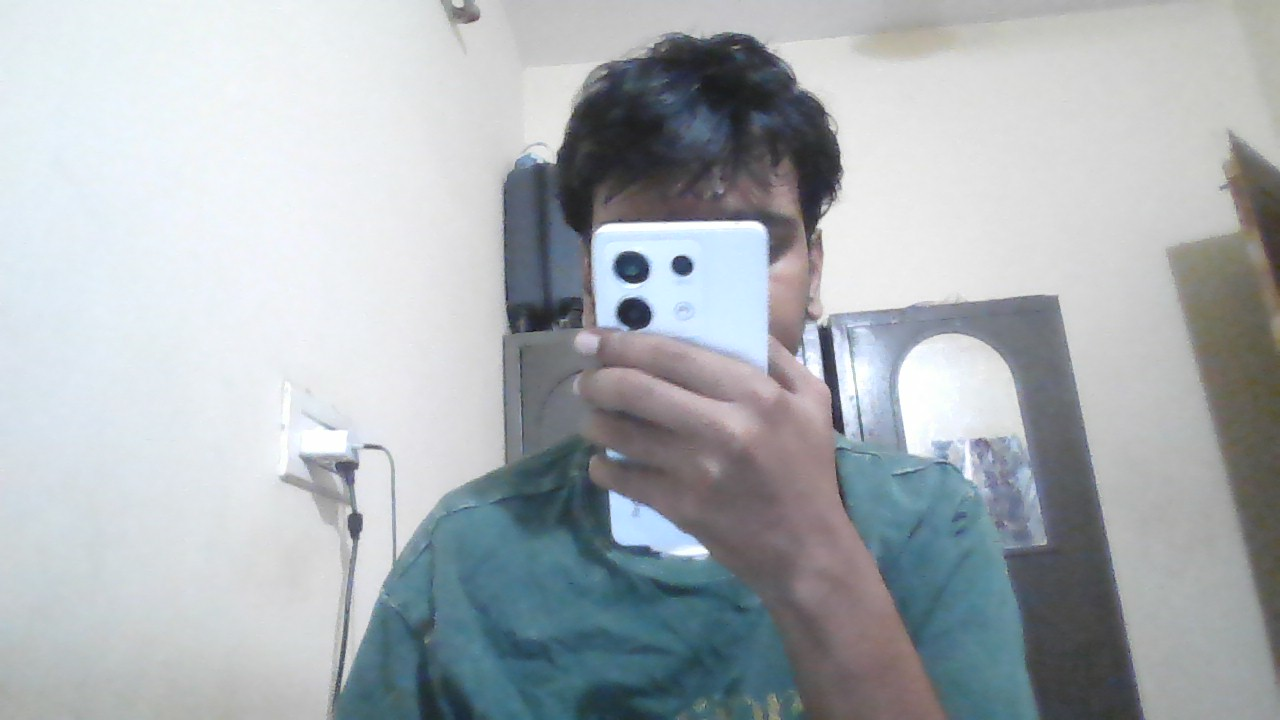phone: (592, 225, 770, 341)
